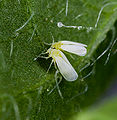whitefly: (43, 45, 79, 84), (46, 35, 87, 57)
